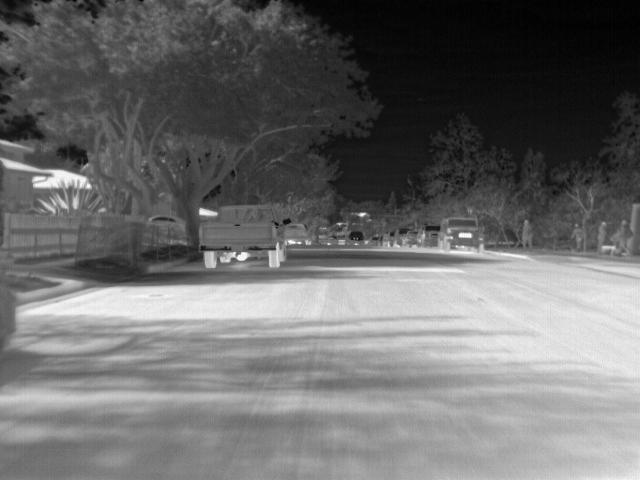car: (200, 205, 287, 269), (440, 218, 485, 250), (283, 222, 313, 247), (146, 212, 184, 230), (415, 226, 439, 246), (347, 234, 366, 248), (403, 228, 417, 246), (382, 232, 397, 248), (395, 228, 407, 246), (369, 236, 381, 248)
person: (621, 219, 636, 256), (520, 220, 533, 250), (573, 223, 586, 250), (596, 220, 606, 254)
